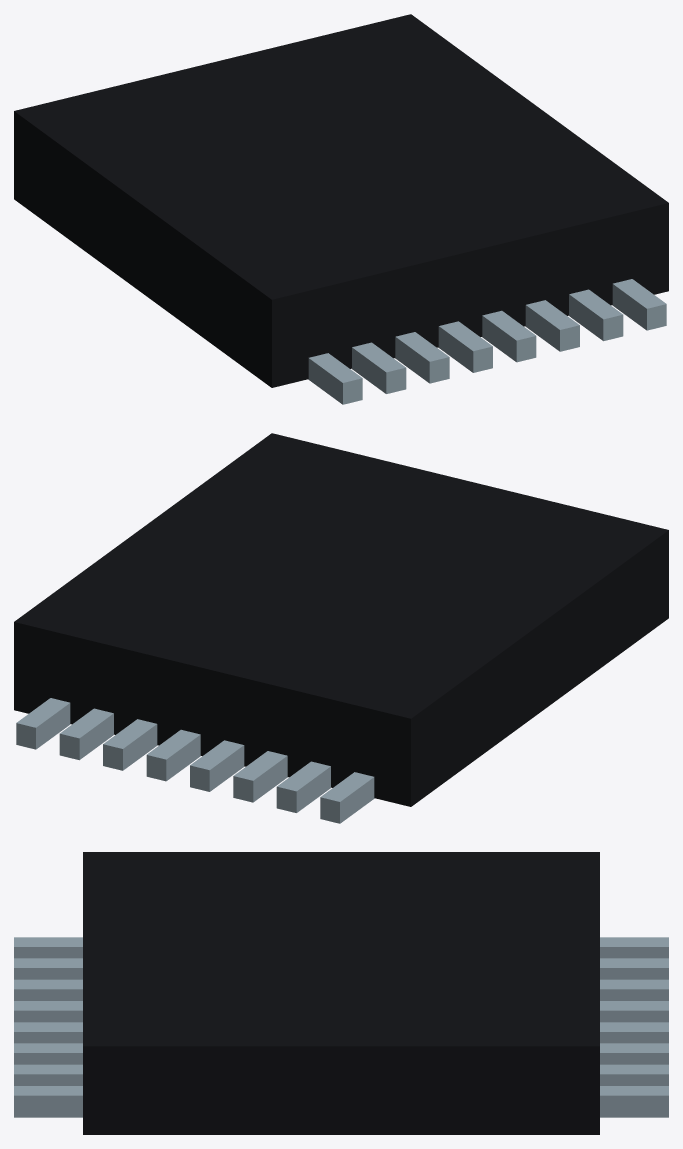
The picture shows the model from 3 angles, top to bottom: view 1: azimuth 30°, elevation 25°; view 2: azimuth 150°, elevation 25°; view 3: azimuth 270°, elevation 25°; orthographic projection.
Visible parts, largest first — view 1: Epoxy_Package, GullWing_1_02, GullWing_1_05, GullWing_1_06, GullWing_1_00, GullWing_1_03, GullWing_1_04, GullWing_1_07, GullWing_1_01; view 2: Epoxy_Package, GullWing_-1_02, GullWing_-1_05, GullWing_-1_06, GullWing_-1_00, GullWing_-1_03, GullWing_-1_04, GullWing_-1_07, GullWing_-1_01; view 3: Epoxy_Package, GullWing_-1_07, GullWing_1_07, GullWing_-1_00, GullWing_-1_01, GullWing_-1_02, GullWing_-1_03, GullWing_-1_04, GullWing_-1_05, GullWing_-1_06, GullWing_1_00, GullWing_1_01 (+5 smaller).
Boxes of the visible parts, x1,y1,x2,y2 form: Epoxy_Package: (14, 14, 668, 387); GullWing_1_02: (395, 332, 449, 383); GullWing_1_05: (525, 300, 579, 351); GullWing_1_06: (569, 289, 623, 341); GullWing_1_00: (308, 353, 362, 404); GullWing_1_03: (438, 321, 492, 372); GullWing_1_04: (482, 310, 536, 362); GullWing_1_07: (612, 279, 666, 330); GullWing_1_01: (352, 342, 406, 393); Epoxy_Package: (14, 433, 668, 806); GullWing_-1_02: (233, 751, 287, 802); GullWing_-1_05: (103, 719, 157, 770); GullWing_-1_06: (59, 708, 113, 760); GullWing_-1_00: (320, 772, 374, 823); GullWing_-1_03: (190, 740, 244, 791); GullWing_-1_04: (146, 729, 200, 781); GullWing_-1_07: (16, 698, 70, 749); GullWing_-1_01: (276, 761, 330, 812); Epoxy_Package: (83, 852, 599, 1134); GullWing_-1_07: (600, 1086, 668, 1117); GullWing_1_07: (14, 1086, 82, 1117); GullWing_-1_00: (600, 937, 668, 958); GullWing_-1_01: (600, 958, 668, 979); GullWing_-1_02: (600, 979, 668, 1000); GullWing_-1_03: (600, 1001, 668, 1022); GullWing_-1_04: (600, 1022, 668, 1043); GullWing_-1_05: (600, 1043, 668, 1064); GullWing_-1_06: (600, 1064, 668, 1085); GullWing_1_00: (14, 937, 82, 958); GullWing_1_01: (14, 958, 82, 979).
Size of the model in its own units: 0.8 by 0.171 by 1.14.
